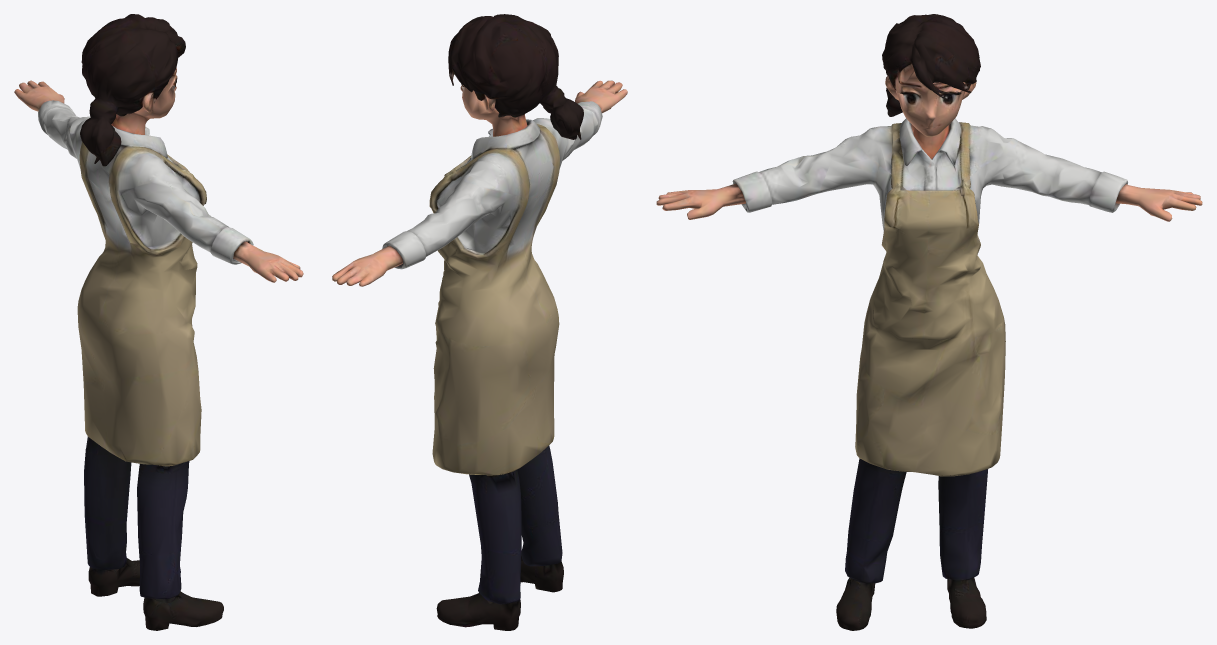
File: apron.glb
3 views of the same model, side by side, from view 1: azimuth 30°, elevation 25°; view 2: azimuth 150°, elevation 25°; view 3: azimuth 270°, elevation 25° (orthographic). The views are drawn at different scales.
Visible parts, largest first — view 1: tripo_node_caf6712f-81c9-4a0a-8ff9-9d90028315ad; view 2: tripo_node_caf6712f-81c9-4a0a-8ff9-9d90028315ad; view 3: tripo_node_caf6712f-81c9-4a0a-8ff9-9d90028315ad.
Boxes of the visible parts, x1,y1,x2,y2 form: tripo_node_caf6712f-81c9-4a0a-8ff9-9d90028315ad: (14, 14, 303, 630); tripo_node_caf6712f-81c9-4a0a-8ff9-9d90028315ad: (332, 14, 627, 630); tripo_node_caf6712f-81c9-4a0a-8ff9-9d90028315ad: (656, 14, 1202, 630).
Bounding box in the file's own units: 0.2174 × 0.9989 × 0.8397.
Materials: 1 (1 with a texture image).
